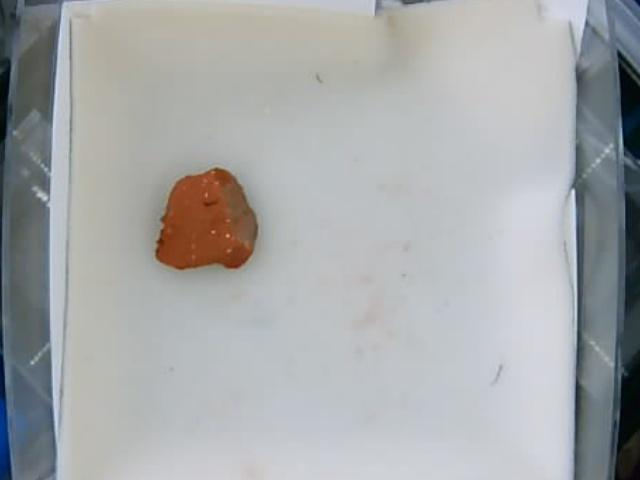Brisk: (156, 167, 255, 272)
